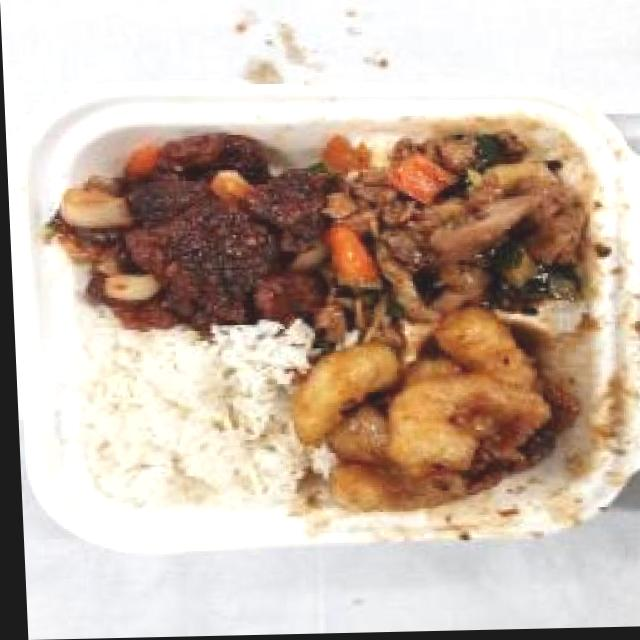Beijing Beef: (47, 124, 332, 334)
Honey Walnut Shrimp: (284, 310, 566, 520)
Kung Pao Chicken: (310, 130, 607, 335)
White Steamed Rice: (67, 328, 298, 515)
